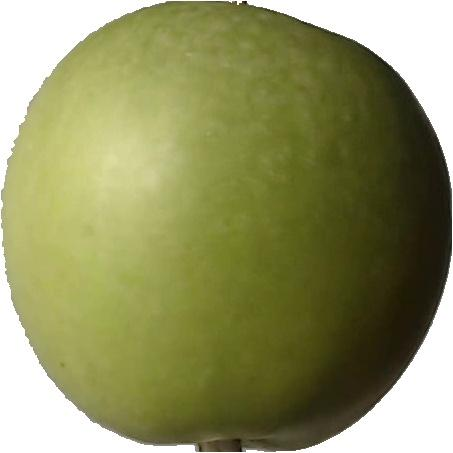Apple Unripe: (0, 0, 449, 453)
